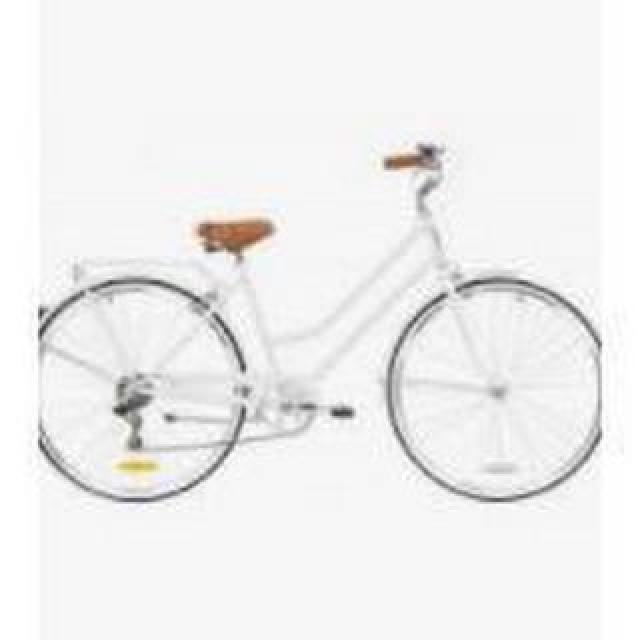Person: (29, 124, 601, 512)
